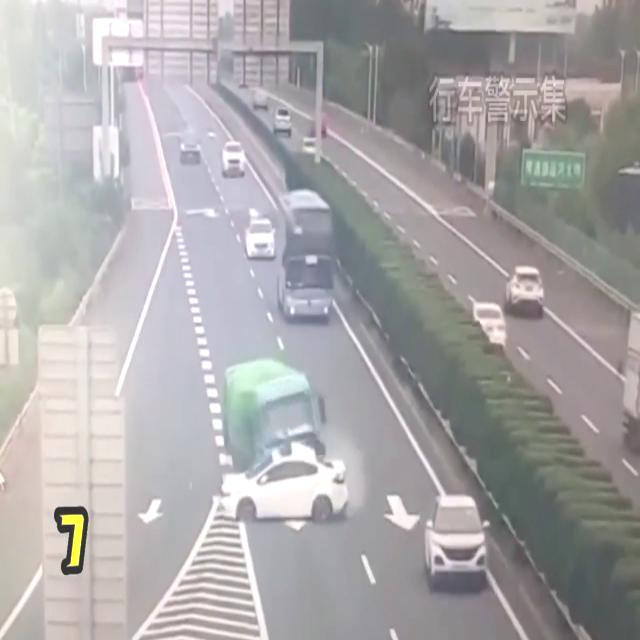non-accident: (216, 357, 352, 527), (244, 187, 334, 323), (467, 264, 547, 356), (180, 132, 247, 178)
